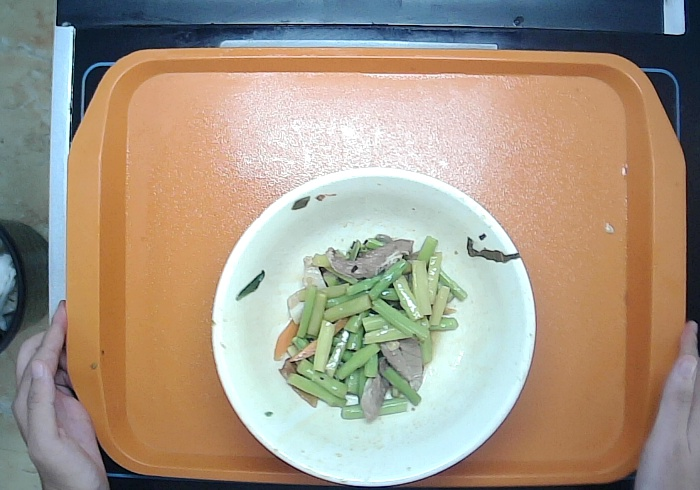ZNLD-Da_Tang_Wan: (210, 157, 538, 488)
